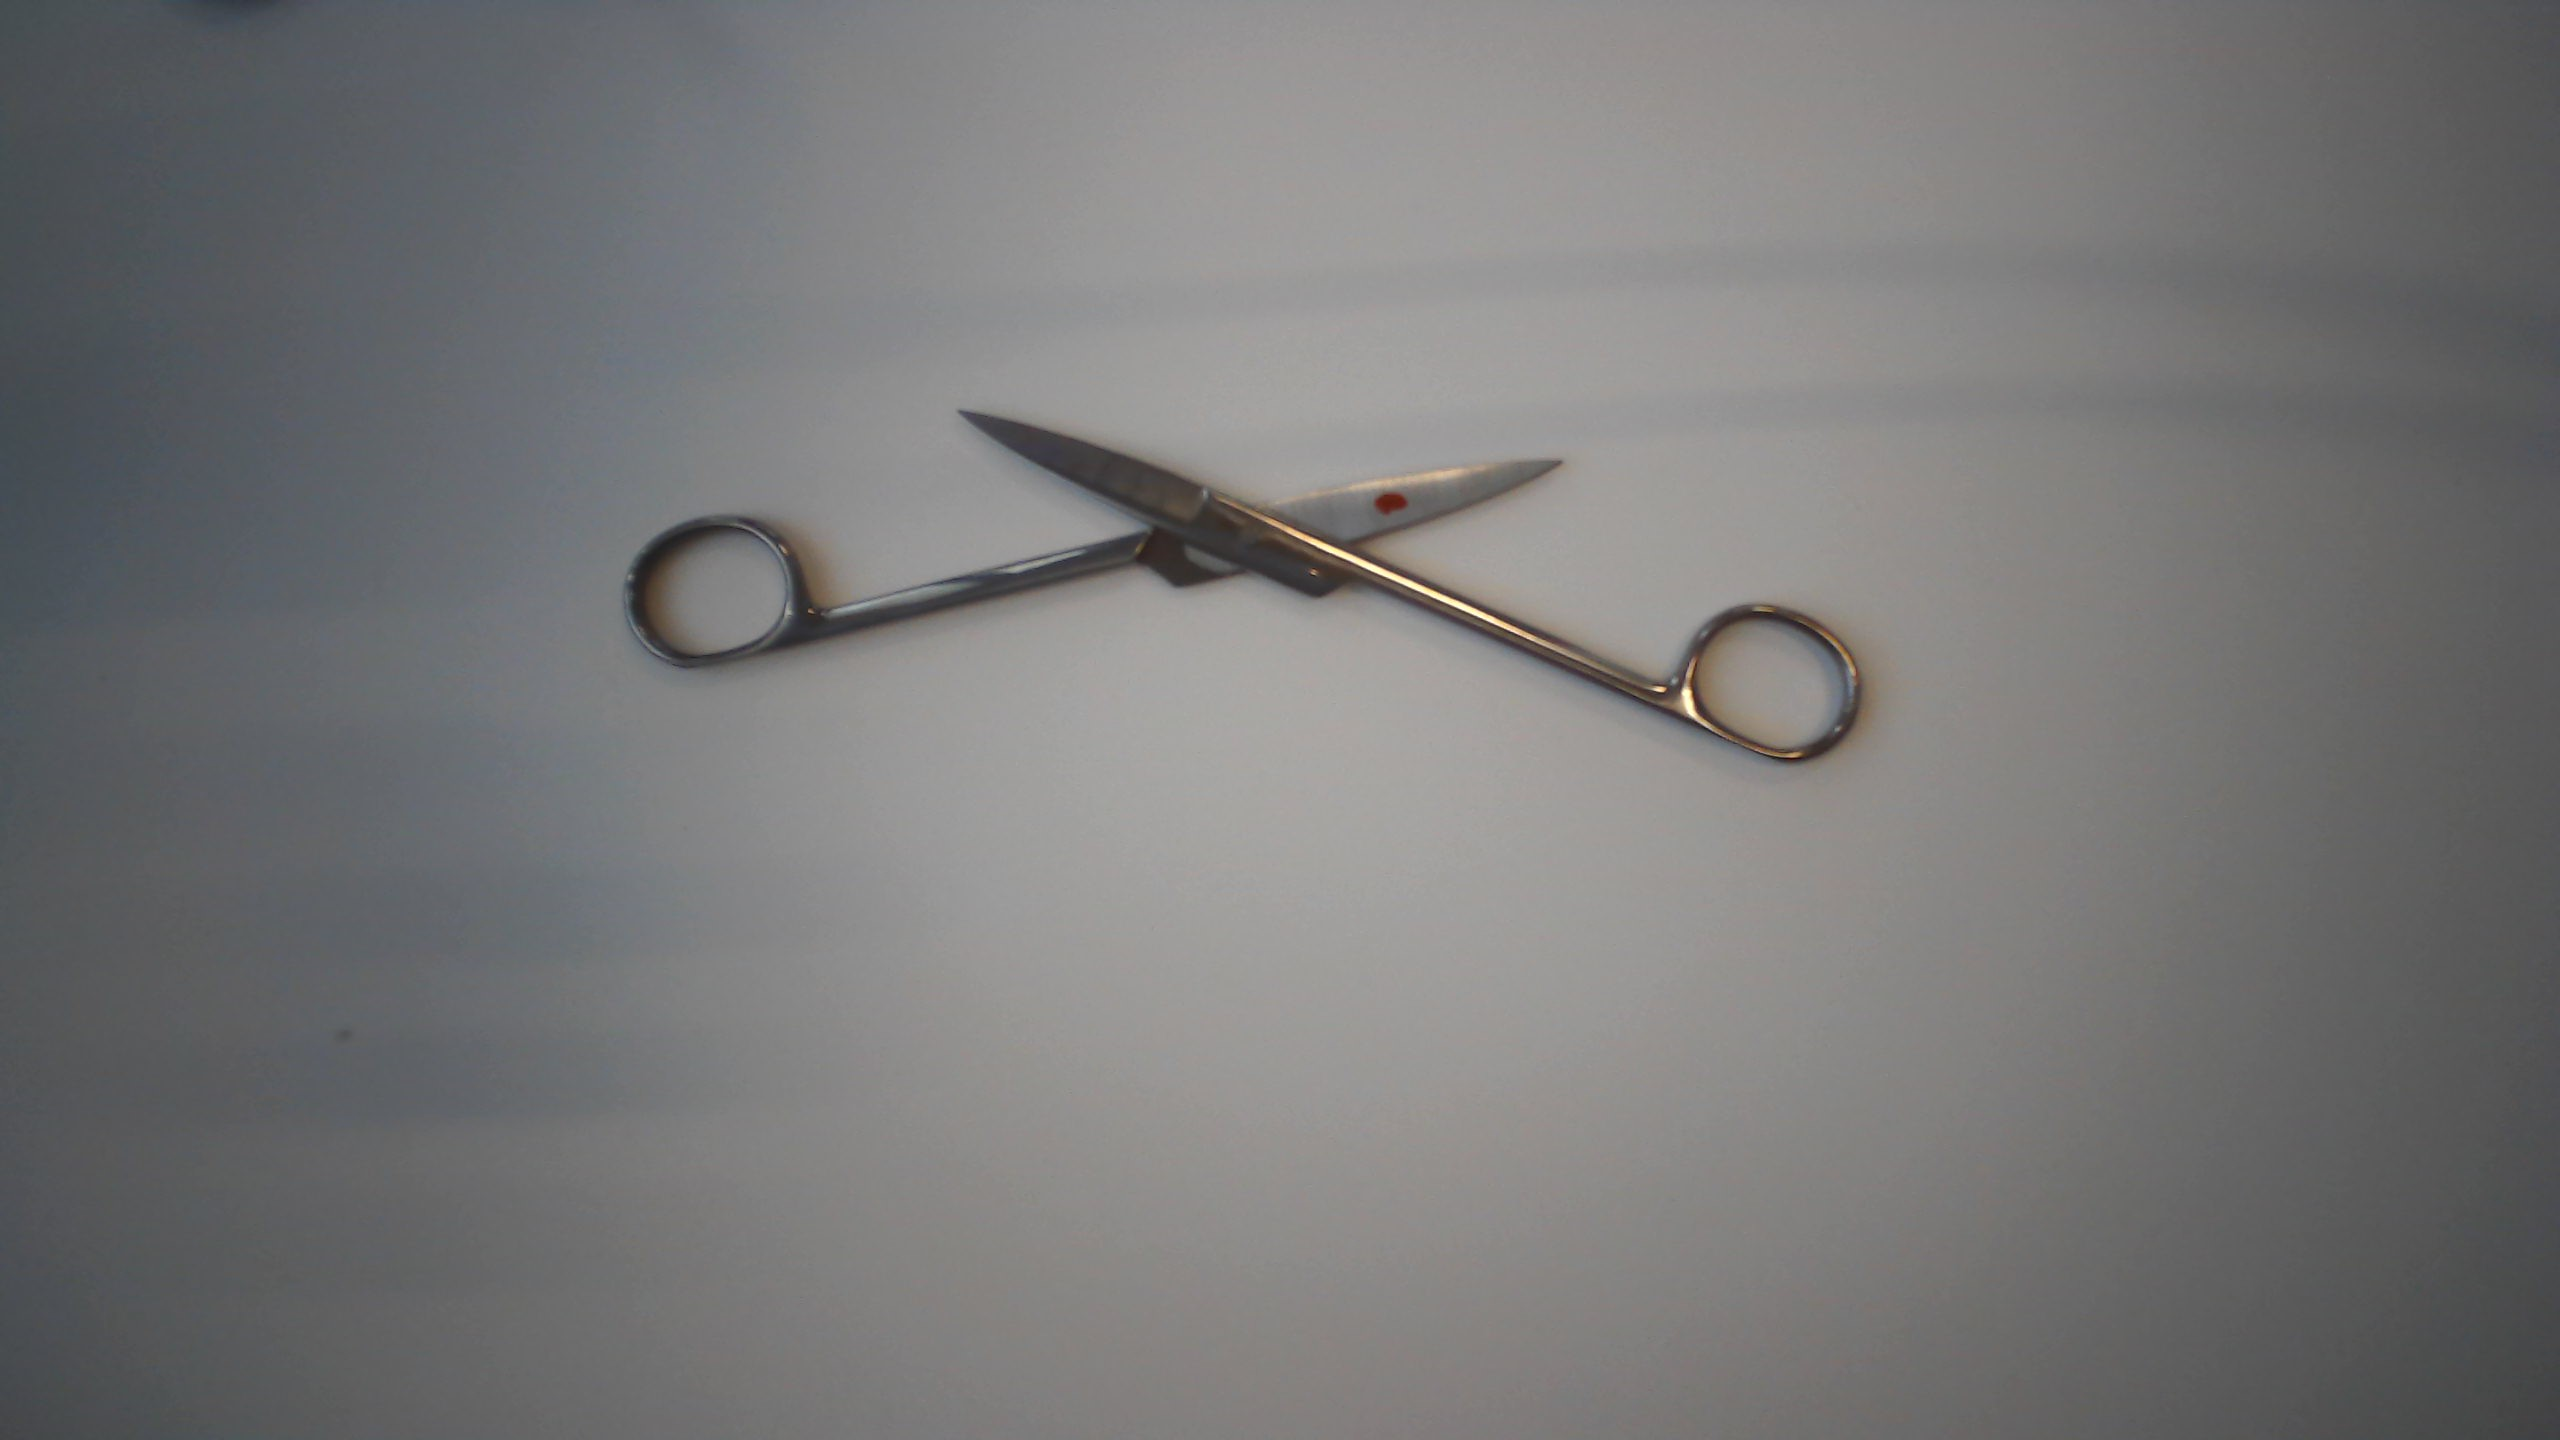Stain: (1366, 491, 1417, 519)
